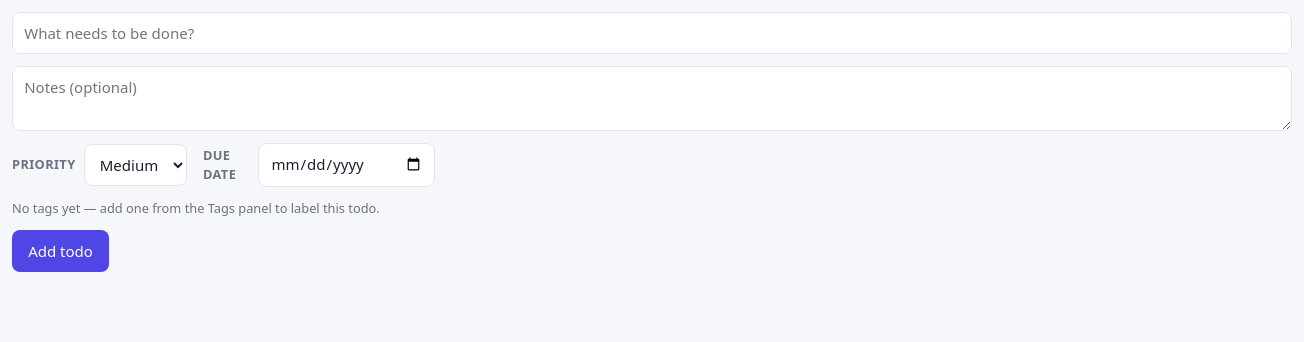
Scenario: TodoForm › blocks submission when the title is blank
Step 1. Click the button "Add todo" → (61, 251), box [12,230,109,272]
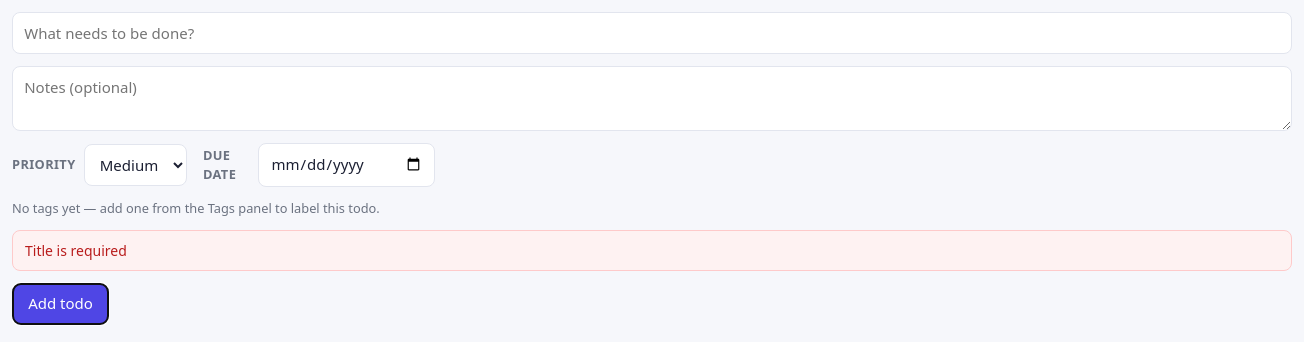
Check: the message reads "Title is required", box [25,241,127,260]
